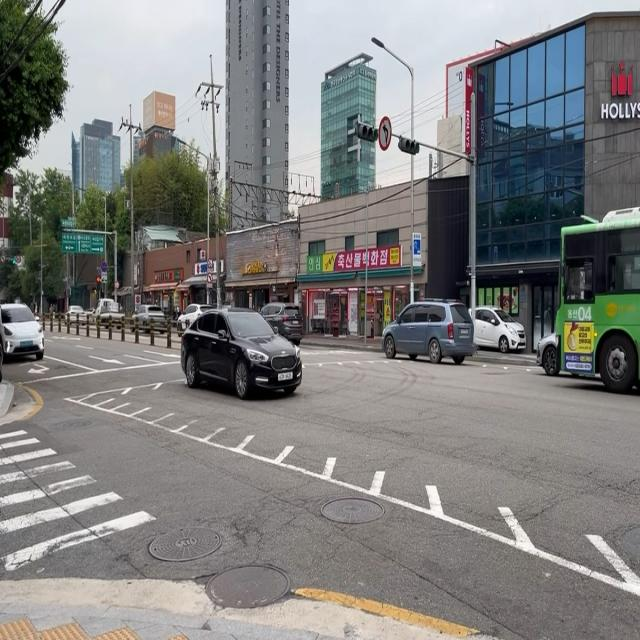building: (453, 8, 639, 354), (223, 0, 290, 231), (60, 94, 137, 250), (319, 51, 377, 201)
car: (180, 306, 302, 399), (379, 280, 478, 379), (0, 301, 44, 361)
